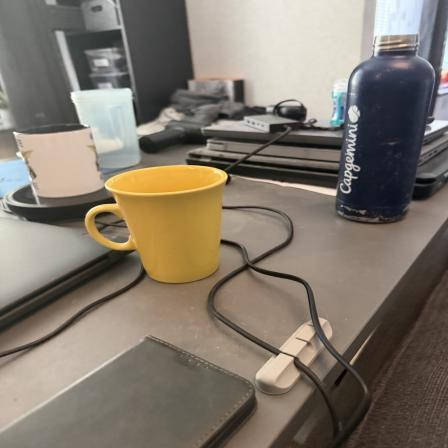blue_bottle: (343, 32, 432, 224)
yellow_cup: (85, 166, 227, 286)
